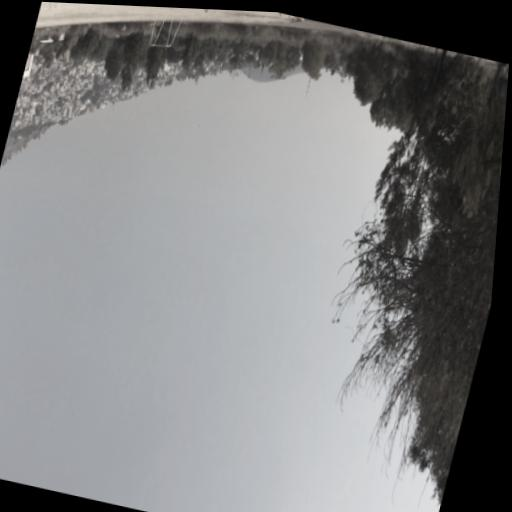drones: (197, 124, 200, 127)
